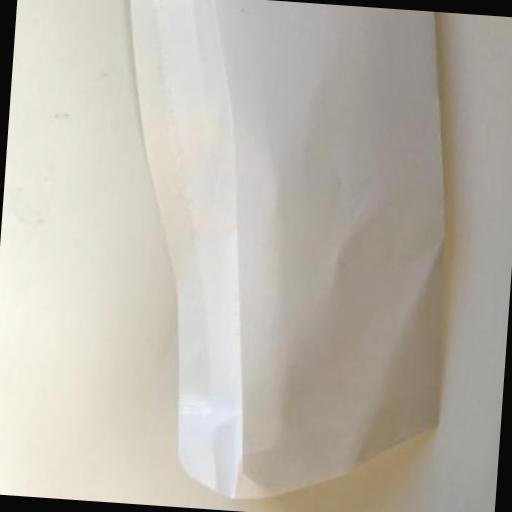paper: (93, 0, 466, 509)
